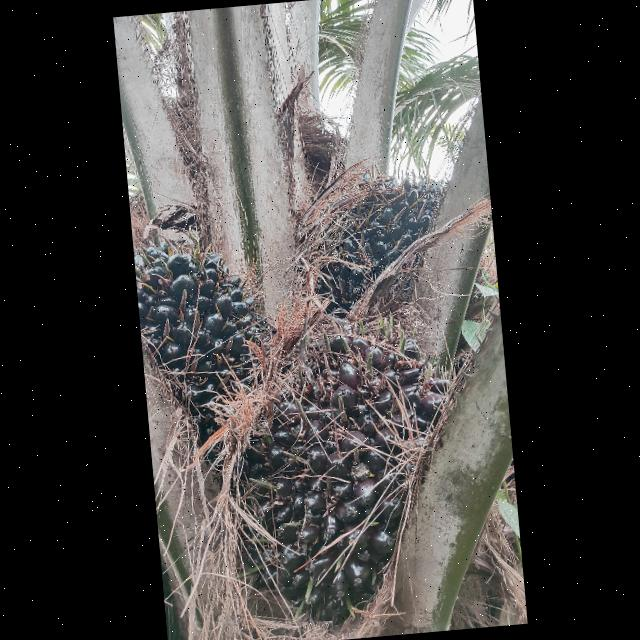Unripe: (245, 317, 453, 620), (135, 248, 270, 427), (324, 182, 451, 312)
